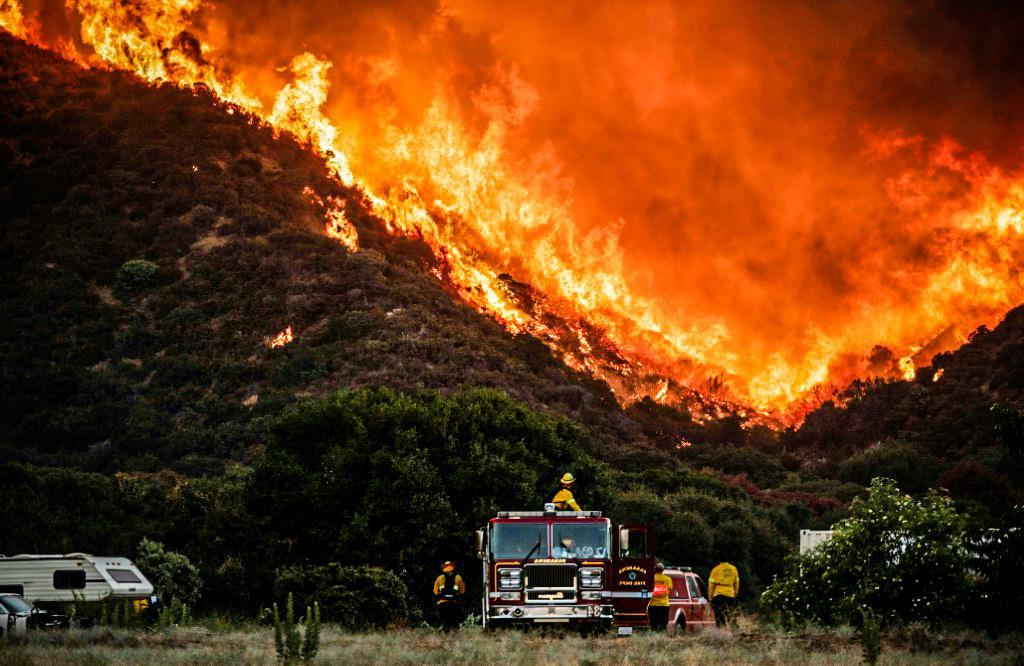Fire: (3, 5, 1021, 396), (321, 205, 361, 252), (271, 321, 296, 352)
